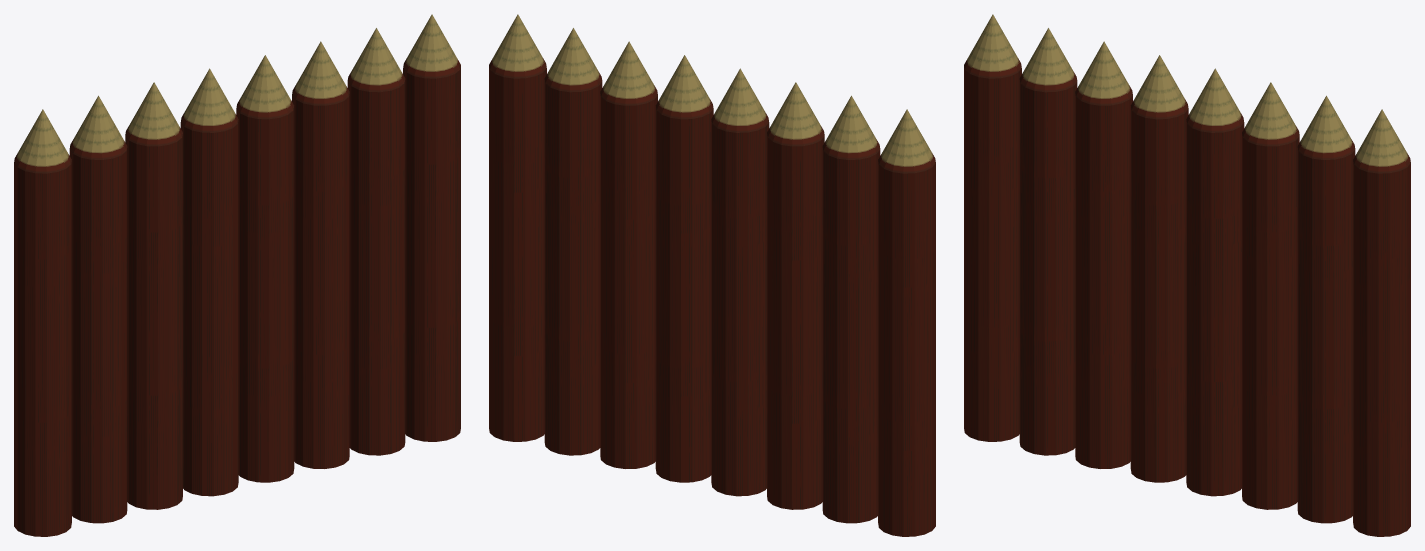
The model's file is Fence.fbx.
3 renders of one model, left to right at view 1: azimuth 30°, elevation 25°; view 2: azimuth 150°, elevation 25°; view 3: azimuth 330°, elevation 25°, orthographic.
Visible parts, largest first — view 1: Cylinder.005; view 2: Cylinder.005; view 3: Cylinder.005.
Part boxes in pixels (x1=…): Cylinder.005: x1=14, y1=14, x2=460, y2=536; Cylinder.005: x1=489, y1=14, x2=935, y2=536; Cylinder.005: x1=964, y1=14, x2=1410, y2=536.
Bounding box in the file's own units: 4.2 × 3.79 × 0.4826.
